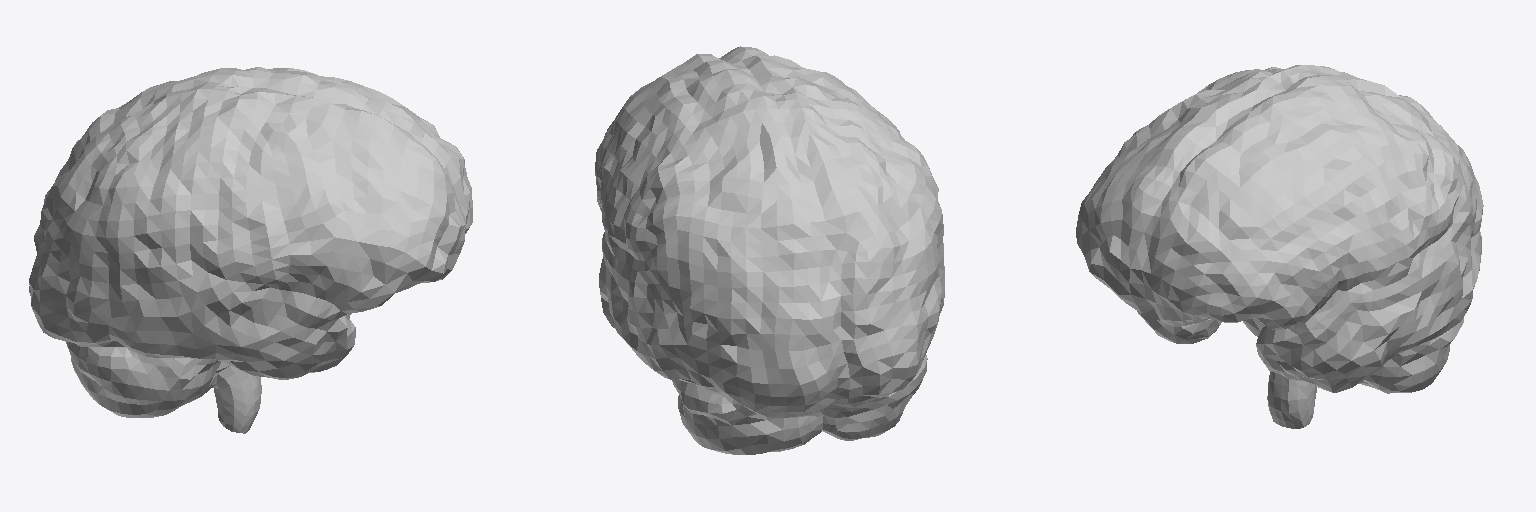
Rendered from cerebro.obj.
3 renders of one model, left to right at view 1: azimuth 30°, elevation 25°; view 2: azimuth 150°, elevation 25°; view 3: azimuth 270°, elevation 25°, orthographic.
Visible parts, largest first — view 1: Object_9; view 2: Object_9; view 3: Object_9.
Part boxes in pixels (left/top/right/bottom): Object_9: left=29, top=67, right=472, bottom=433; Object_9: left=595, top=46, right=944, bottom=454; Object_9: left=1076, top=65, right=1483, bottom=428.
Size of the model in its own units: 0.5665 by 0.512 by 0.546.